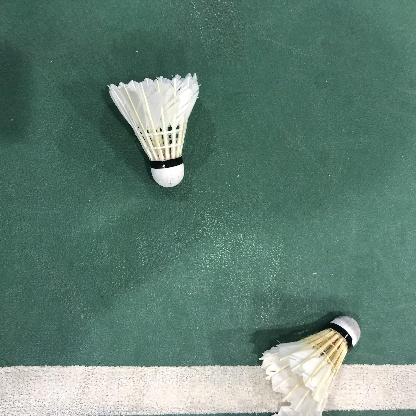ball_single: (107, 73, 199, 187), (258, 316, 361, 416)
